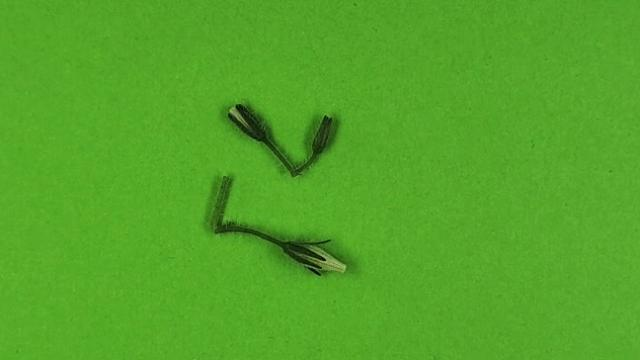Flower Bud: (227, 103, 268, 141), (311, 115, 335, 156)
